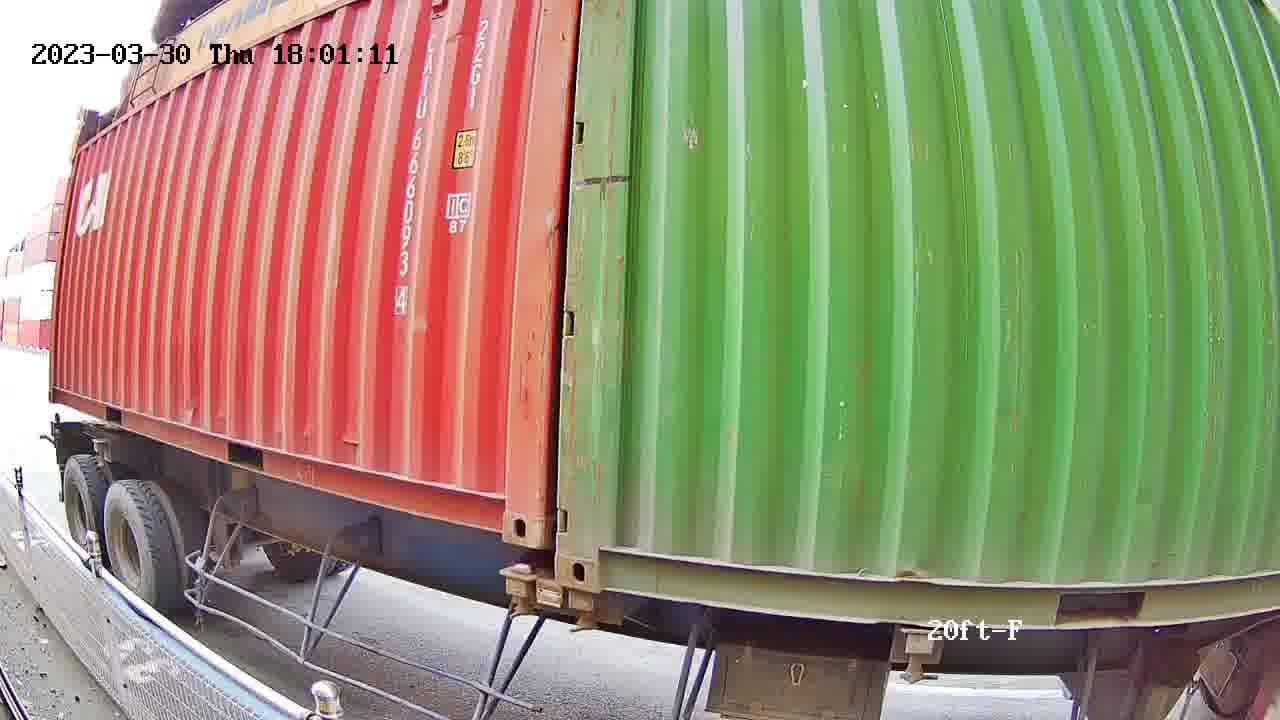Cone: (503, 561, 541, 618), (565, 588, 601, 634)
Hole_L: (557, 519, 638, 595)
Hole_R: (466, 464, 545, 546)
Tire: (103, 486, 158, 611), (62, 457, 99, 562)
